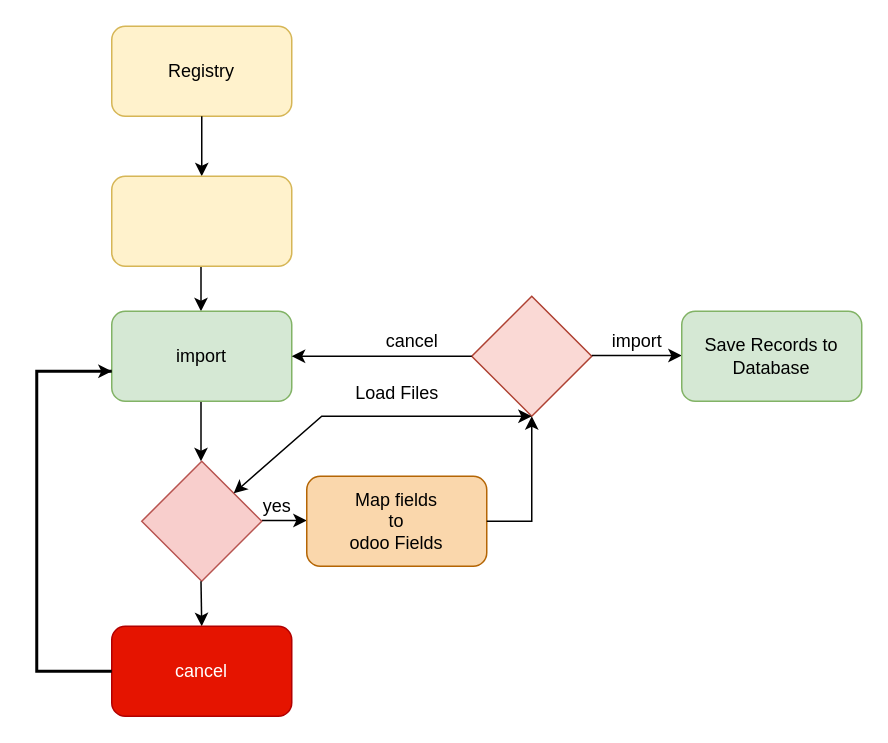
This 888x743 diagram has some shape labels left out. The box of each missing label's shape, as (x1, y1, x2, y2) in pixels:
Individuals: (110, 175, 292, 266)
Test: (470, 295, 592, 416)
Upload file: (140, 460, 262, 581)
